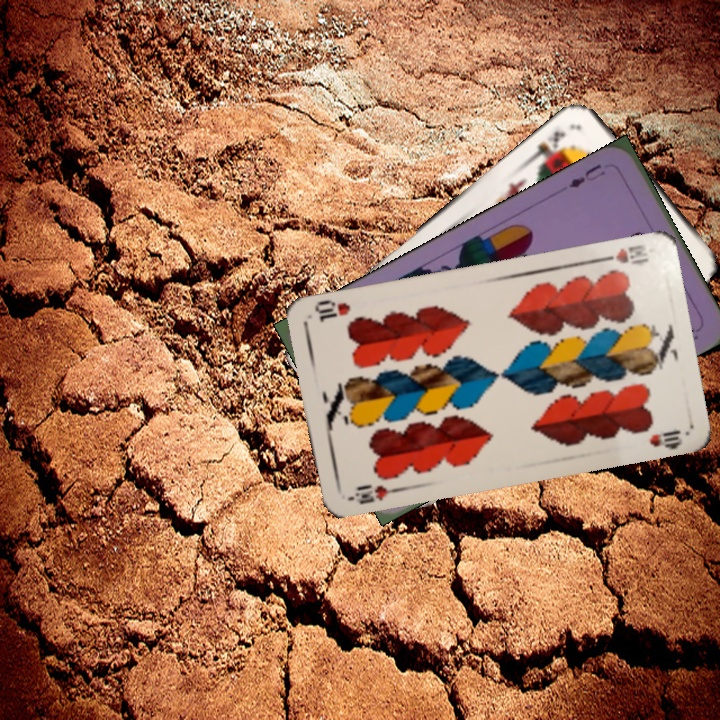EU: (564, 160, 609, 191)
H10: (343, 480, 402, 507), (594, 240, 652, 267)
SK: (526, 126, 568, 170)
